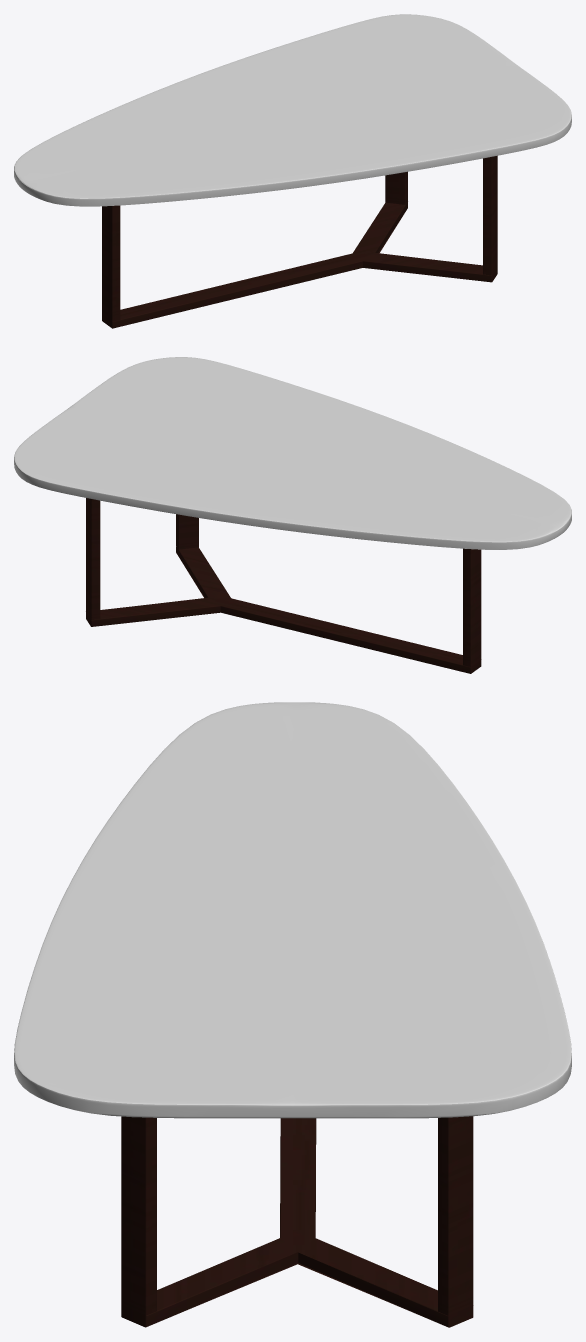
The picture shows the model from 3 angles, top to bottom: view 1: azimuth 30°, elevation 25°; view 2: azimuth 150°, elevation 25°; view 3: azimuth 270°, elevation 25°; orthographic projection. The views are drawn at different scales.
Parts seen in each view (by area): view 1: C-skp165F; view 2: C-skp165F; view 3: C-skp165F.
Boxes of the visible parts, x1,y1,x2,y2 form: C-skp165F: (14,14,571,328); C-skp165F: (14,357,571,673); C-skp165F: (14,702,571,1327).
Bounding box in the file's own units: 1.2 × 0.38 × 0.7.
Materials: 2 (1 with a texture image).
